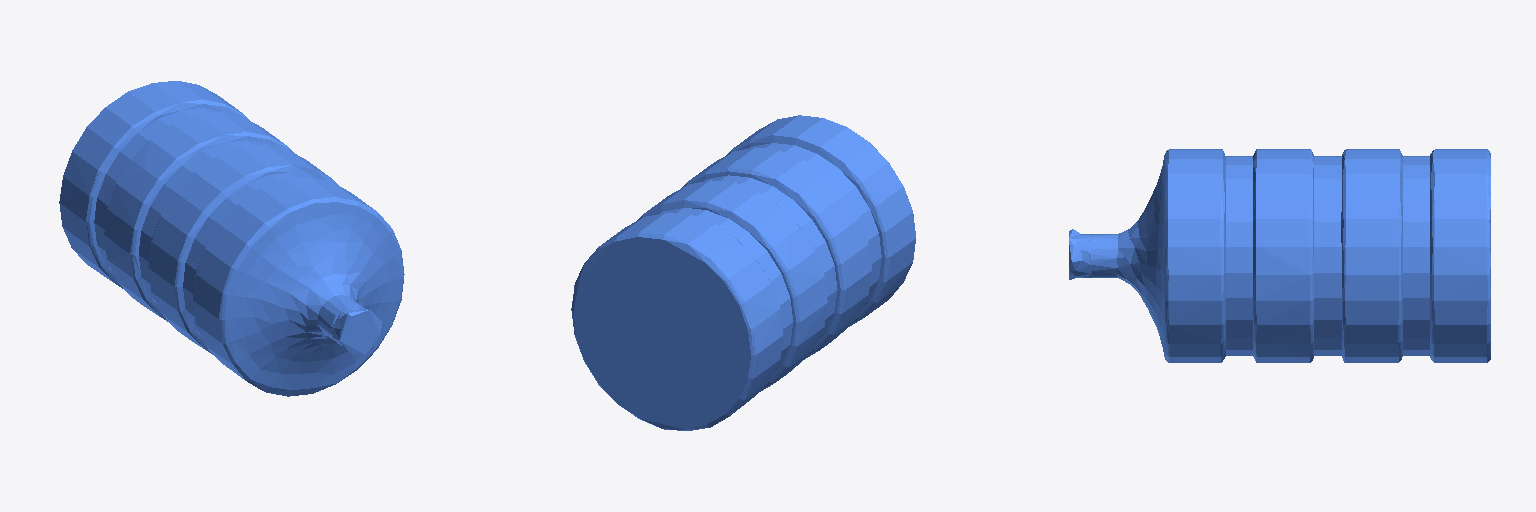
Rendered from model_align.obj.
The picture shows the model from 3 angles: view 1: azimuth 30°, elevation 25°; view 2: azimuth 150°, elevation 25°; view 3: azimuth 270°, elevation 25°; orthographic projection.
Size of the model in its own units: 0.1197 by 0.1197 by 0.2358.